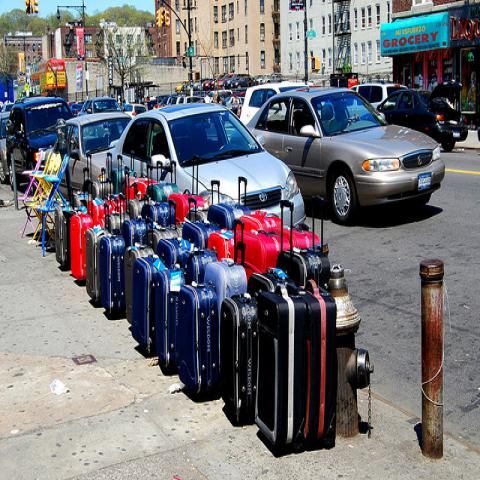car: (246, 86, 446, 228), (105, 102, 307, 230), (4, 98, 73, 189), (380, 82, 466, 152), (66, 111, 132, 196), (240, 80, 314, 126), (352, 82, 408, 111), (77, 97, 123, 116), (0, 112, 10, 186), (174, 94, 206, 107), (123, 104, 148, 120)
